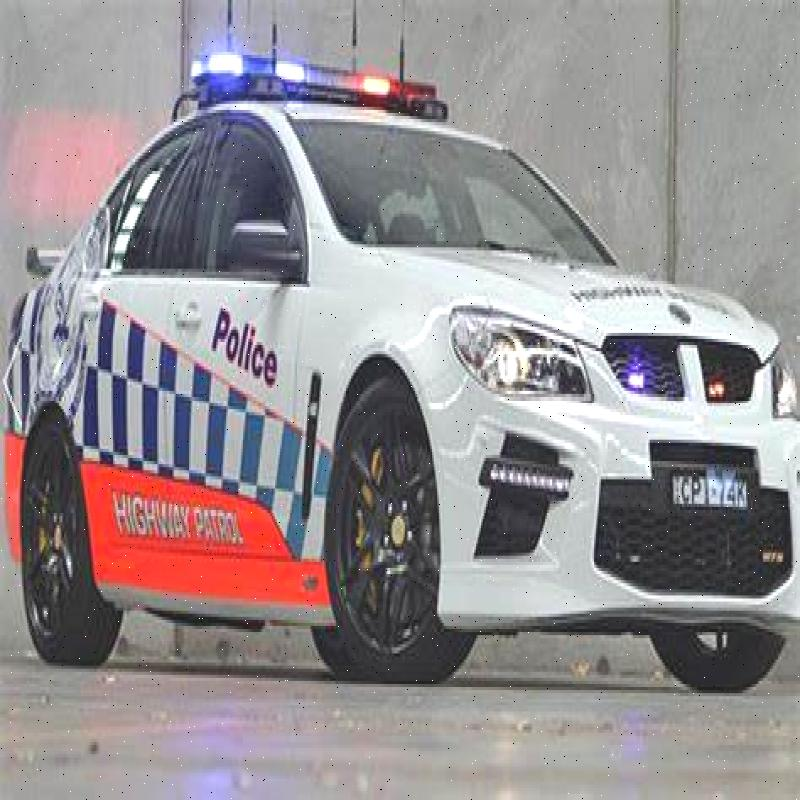AmbulanceSiren: (176, 31, 469, 126)
